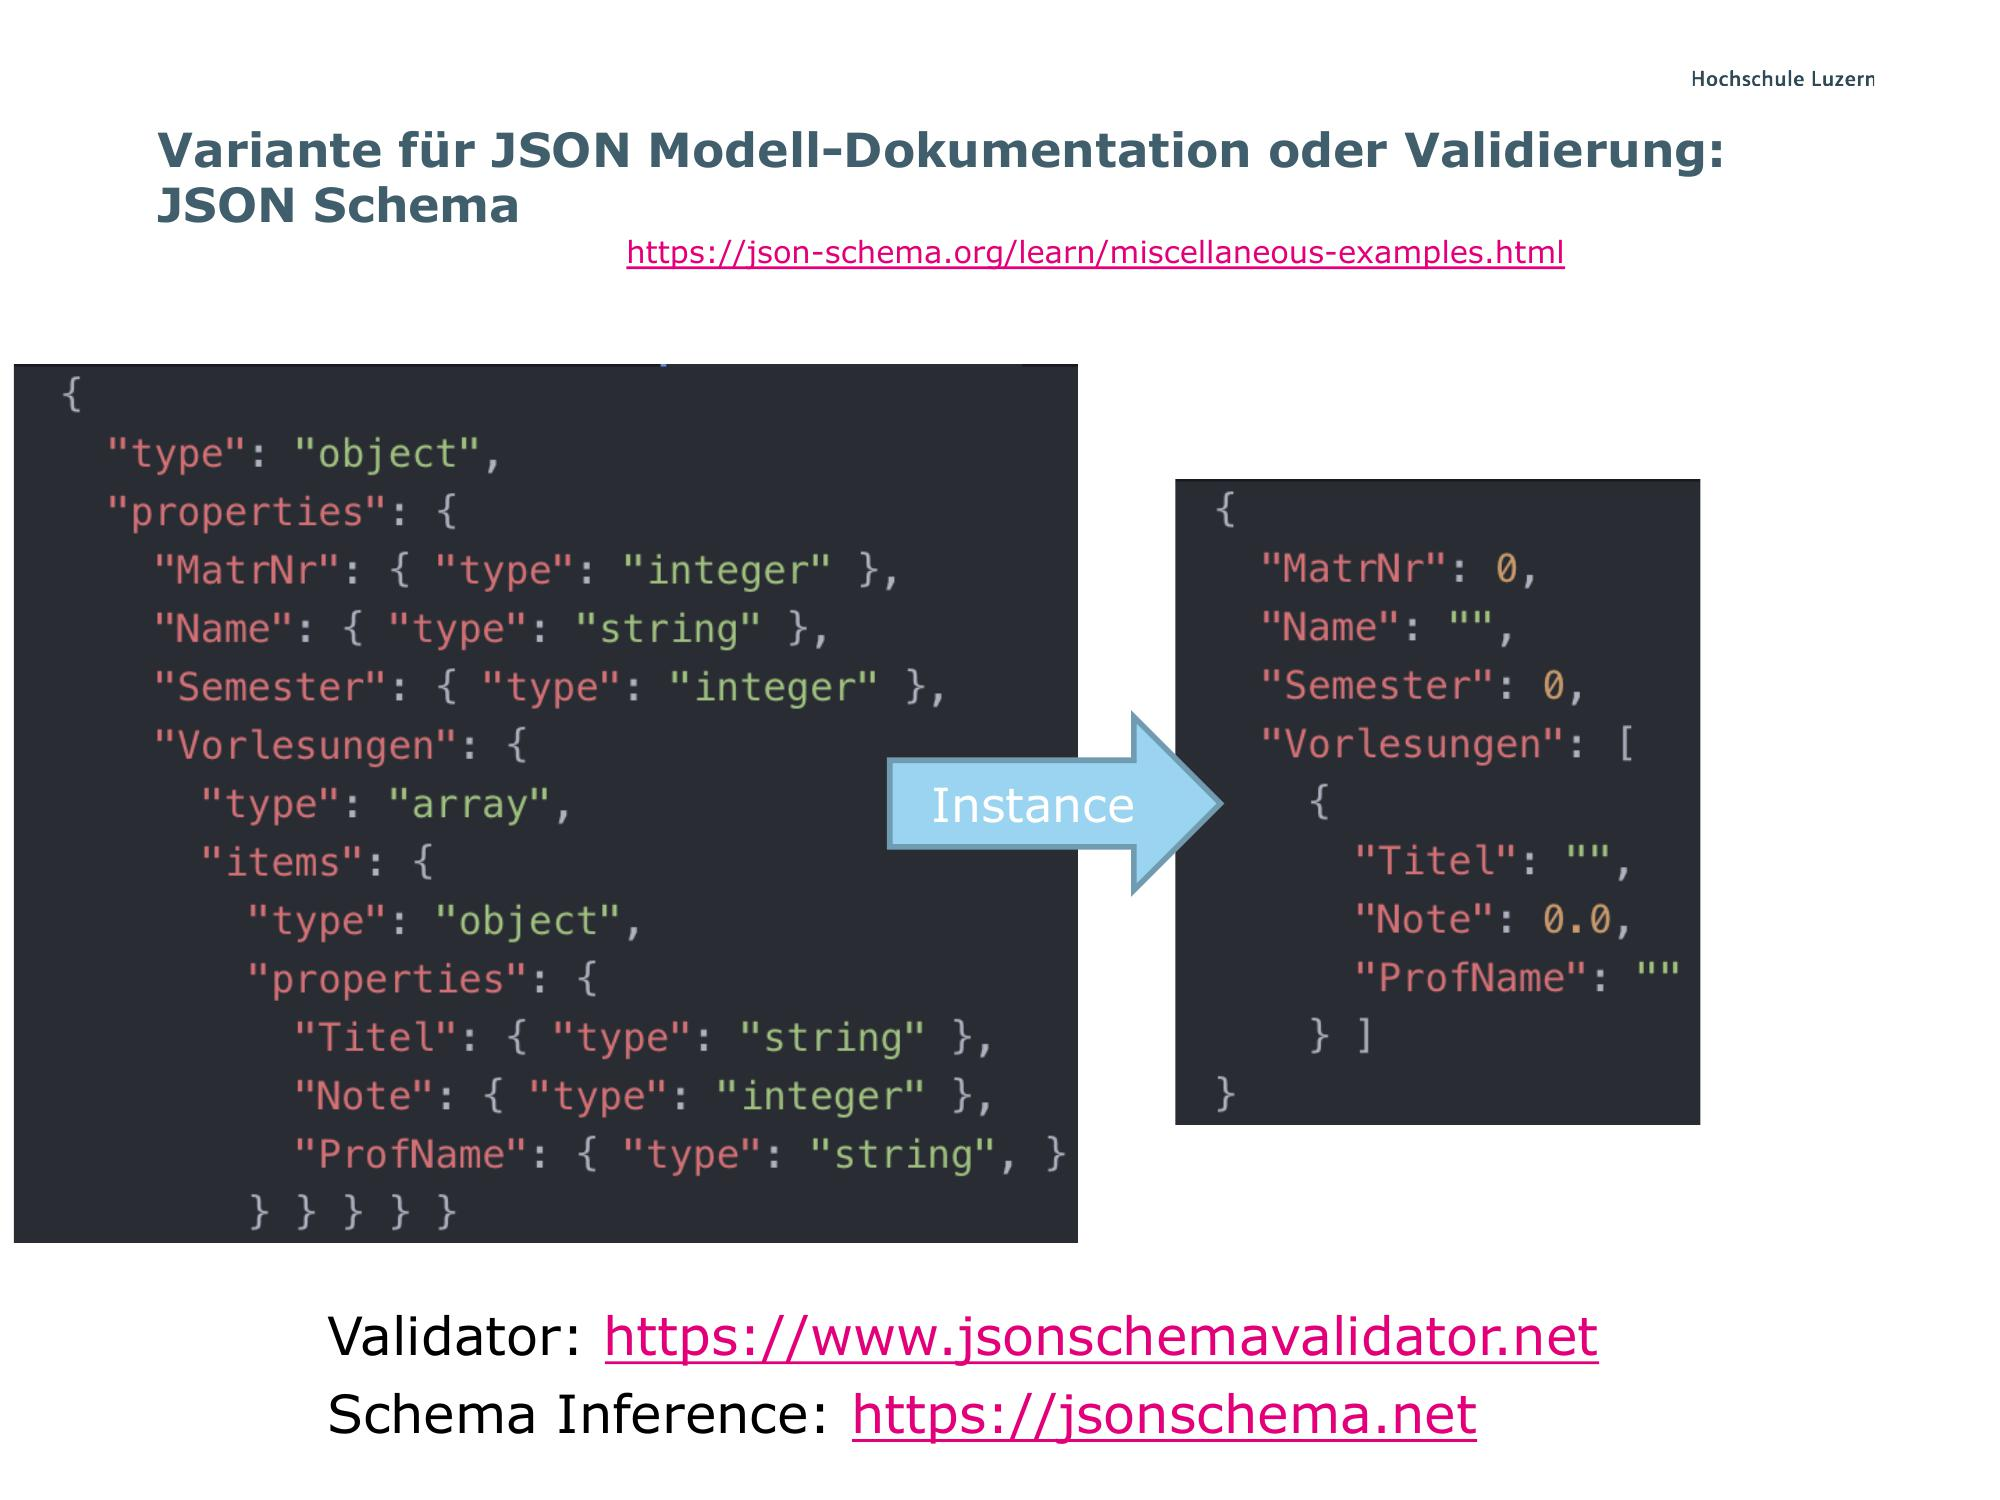Title: (128, 95, 1746, 235)
